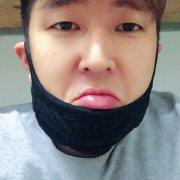WRONG: (30, 2, 157, 141)
